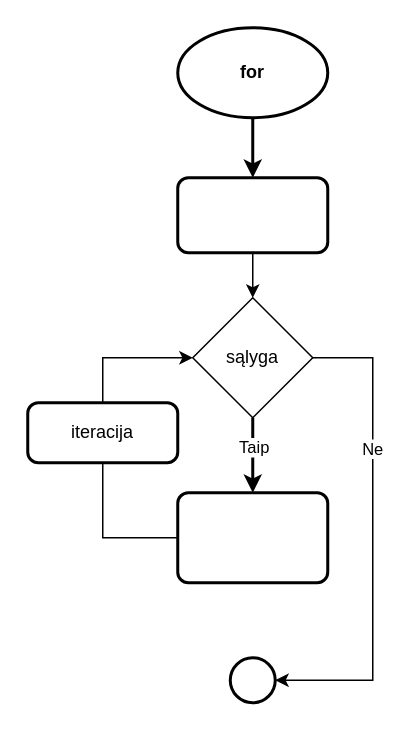
Some shapes in this 411 by 729 pixel diagram are drawn without their labels. The centre of each missing label's shape, as x and y in pixels:
"Inicializavimas" belongs at (x=252, y=215).
"{ ciklo veiksmai }" belongs at (x=252, y=537).
